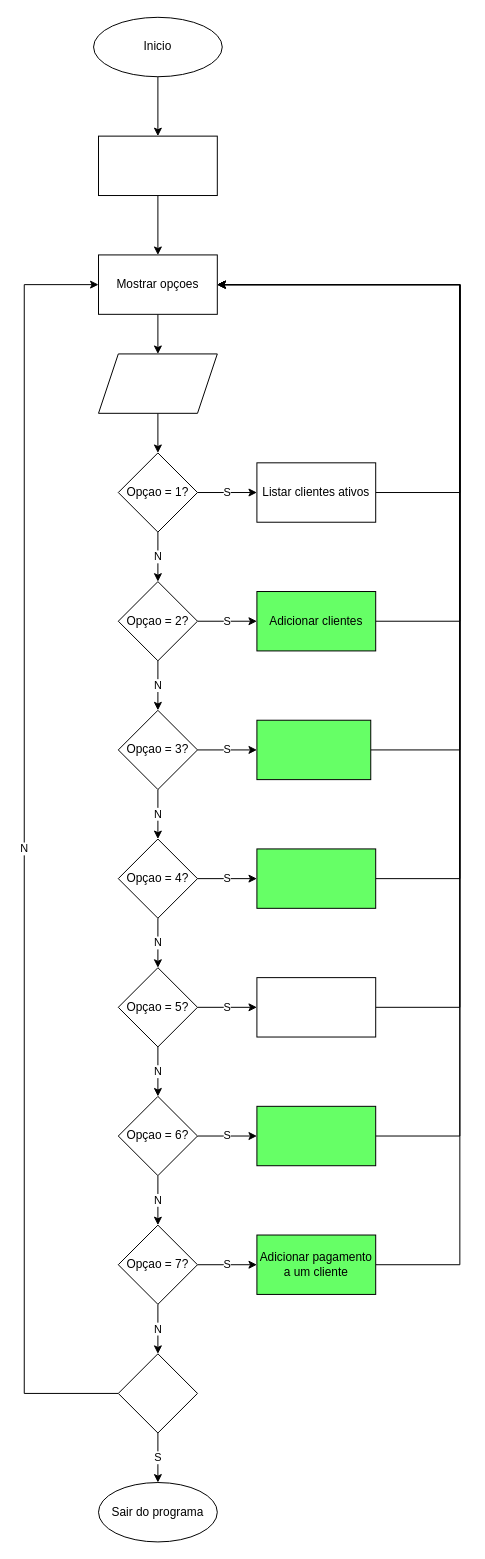
This 485x1559 diagram has some shape labels left out. Here are the shapes that lost their labels. From the top down, the centre of each, then its label:
the point at 157,165: Ler ficheiro de lista de clientes e movimentos e carregar valores
the point at 157,383: Ler opçao
the point at 313,749: Eliminar um cliente (torná-lo inativo)
the point at 316,878: Modificar dados de um cliente
the point at 316,1007: Consultar dados de um cliente e verificar crédito disponível
the point at 316,1135: Adicionar compra a um cliente
the point at 157,1393: Opçao = 8?
